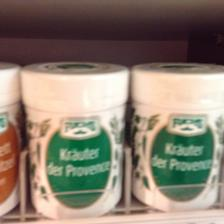Gewuerze: (17, 58, 128, 218), (131, 60, 223, 212)
